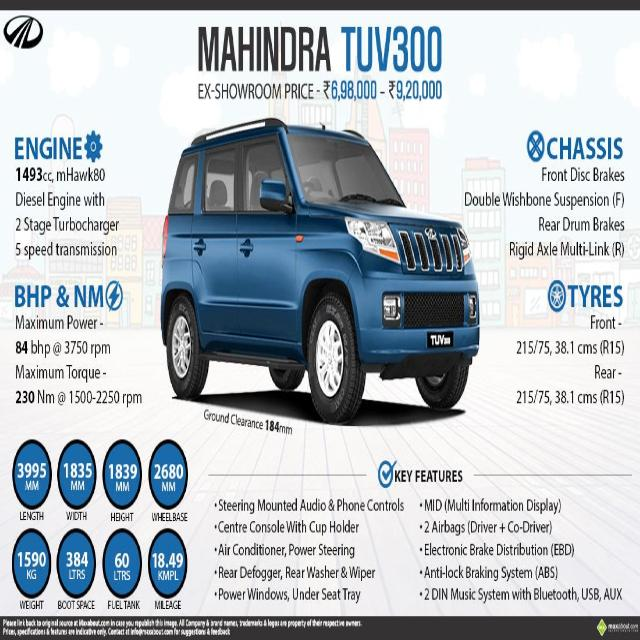light_vehicle: (153, 122, 482, 440)
